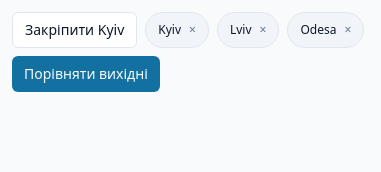
PinChips › blocks fourth pin with max-three message (AC-10)
Step 1. Click the button "Закріпити Kyiv" → coordinates (75, 30), box x1=12 y1=12 x2=137 y2=48
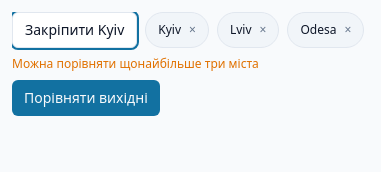
Now the text "Можна порівняти щонайбільше три міста" is shown, box x1=12 y1=55 x2=259 y2=72
